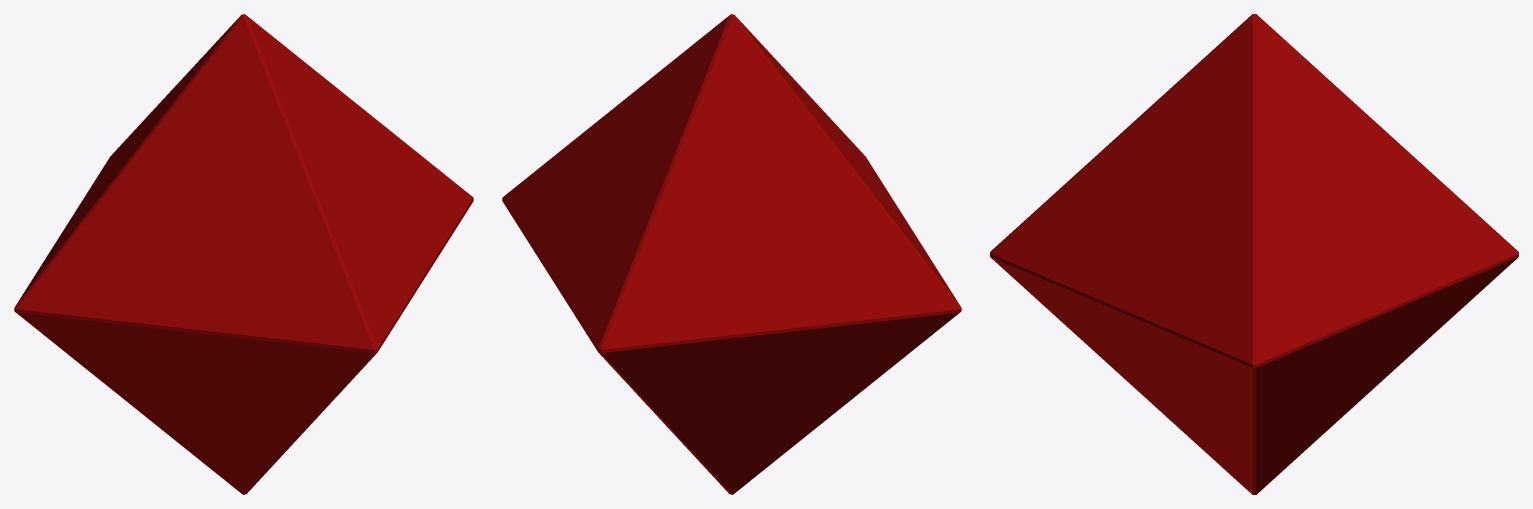
The model's file is Cristal de memoria.fbx.
3 views of the same model, side by side, from view 1: azimuth 30°, elevation 25°; view 2: azimuth 150°, elevation 25°; view 3: azimuth 270°, elevation 25° (orthographic).
Parts seen in each view (by area): view 1: Cube.046; view 2: Cube.046; view 3: Cube.046.
Boxes of the visible parts, x1=… form: Cube.046: x1=14, y1=14, x2=473, y2=494; Cube.046: x1=502, y1=14, x2=961, y2=494; Cube.046: x1=990, y1=14, x2=1518, y2=494.
Size of the model in its own units: 400 by 400 by 400.
